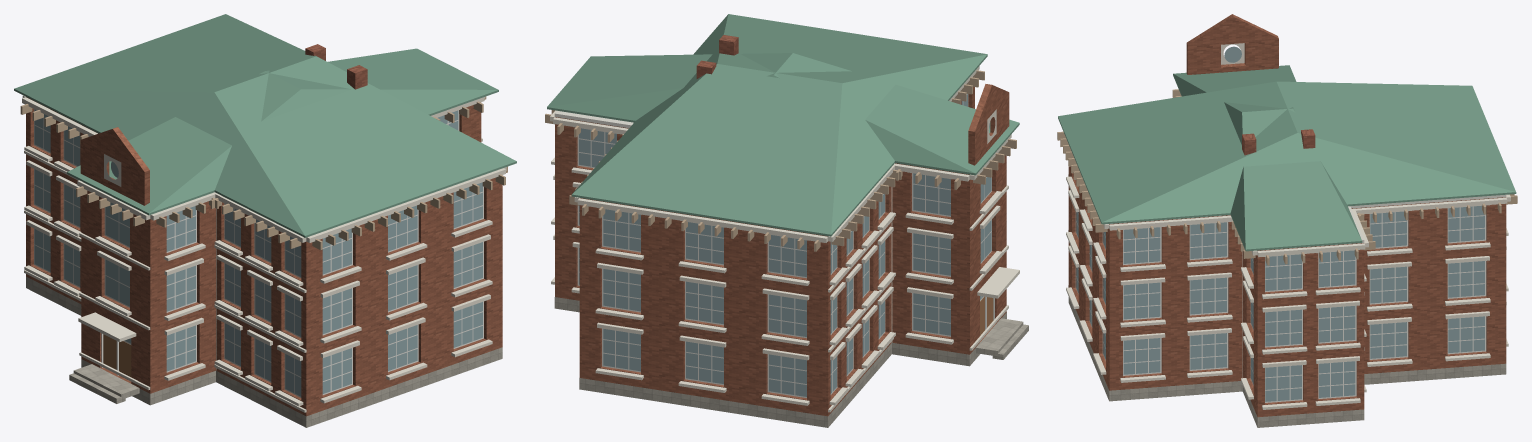
3 renders of one model, left to right at view 1: azimuth 30°, elevation 25°; view 2: azimuth 150°, elevation 25°; view 3: azimuth 270°, elevation 25°, orthographic. The views are drawn at different scales.
Parts seen in each view (by area): view 1: carolina__roof, carolina__brick, carolina__glass, carolina__lintel, carolina__frame, carolina__stone, carolina__bracket, carolina__stair-front, carolina__wooddoor, carolina__threshold-front, carolina__chimney; view 2: carolina__roof, carolina__brick, carolina__glass, carolina__lintel, carolina__frame, carolina__stone, carolina__bracket, carolina__threshold-front, carolina__stair-front, carolina__chimney, carolina__cap; view 3: carolina__roof, carolina__brick, carolina__glass, carolina__lintel, carolina__frame, carolina__stone, carolina__bracket, carolina__cap, carolina__chimney.
Part boxes in pixels (box(x1,y1,x2,y2)): carolina__roof: box(14, 14, 516, 237); carolina__brick: box(26, 97, 502, 416); carolina__glass: box(34, 109, 482, 396); carolina__lintel: box(22, 95, 506, 412); carolina__frame: box(34, 109, 483, 397); carolina__stone: box(26, 276, 502, 427); carolina__bracket: box(20, 96, 507, 250); carolina__stair-front: box(69, 369, 125, 403); carolina__wooddoor: box(103, 334, 131, 379); carolina__threshold-front: box(78, 364, 139, 397); carolina__chimney: box(305, 44, 367, 89); carolina__roof: box(547, 14, 1019, 236); carolina__brick: box(555, 84, 1009, 416); carolina__glass: box(579, 94, 991, 396); carolina__lintel: box(550, 66, 1019, 412); carolina__frame: box(577, 94, 994, 397); carolina__stone: box(554, 282, 1006, 427); carolina__bracket: box(545, 70, 1016, 251); carolina__threshold-front: box(975, 318, 1017, 355); carolina__stair-front: box(992, 321, 1028, 359); carolina__chimney: box(696, 35, 738, 78); carolina__cap: box(554, 111, 633, 128); carolina__roof: box(1058, 65, 1516, 251); carolina__brick: box(1068, 14, 1506, 417); carolina__glass: box(1076, 205, 1484, 401); carolina__lintel: box(1066, 43, 1510, 409); carolina__frame: box(1075, 205, 1486, 402); carolina__stone: box(1068, 297, 1506, 427); carolina__bracket: box(1057, 89, 1517, 265); carolina__cap: box(1110, 194, 1506, 250); carolina__chimney: box(1242, 129, 1315, 155).
Bounding box in the file's own units: 24.29 × 14.36 × 24.83.
Materials: 12 (3 with a texture image).
